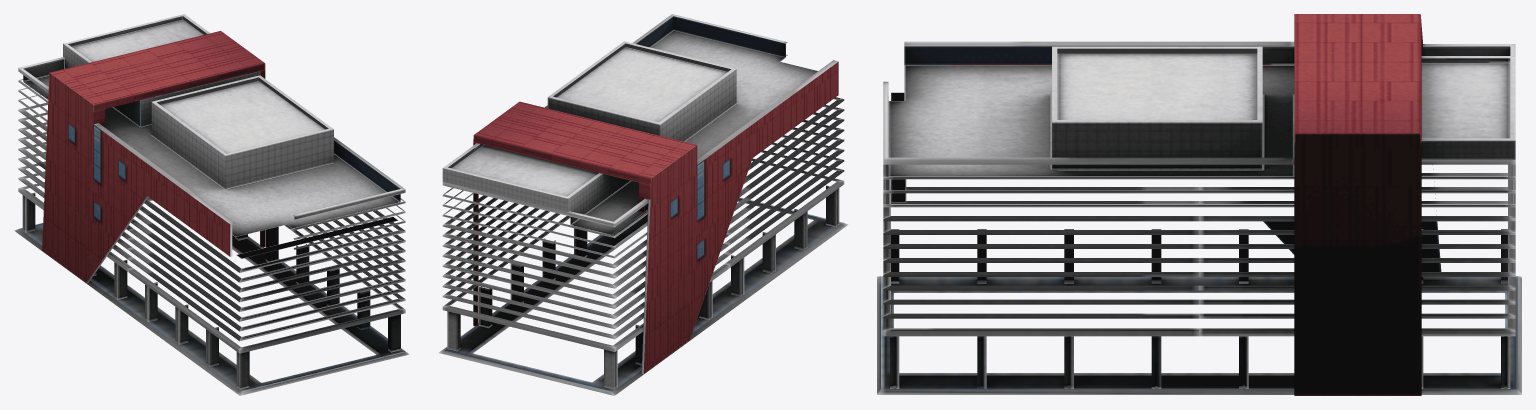
3 views of the same model, side by side, from view 1: azimuth 30°, elevation 25°; view 2: azimuth 150°, elevation 25°; view 3: azimuth 270°, elevation 25° (orthographic). The views are drawn at different scales.
Parts seen in each view (by area): view 1: 1002; view 2: 1002; view 3: 1002.
Boxes of the visible parts, x1,y1,x2,y2 form: 1002: (14,14,409,395); 1002: (439,14,848,395); 1002: (877,14,1521,395).
Bounding box in the file's own units: 35.77 × 36.68 × 81.64.
1 material, 1 textured.
